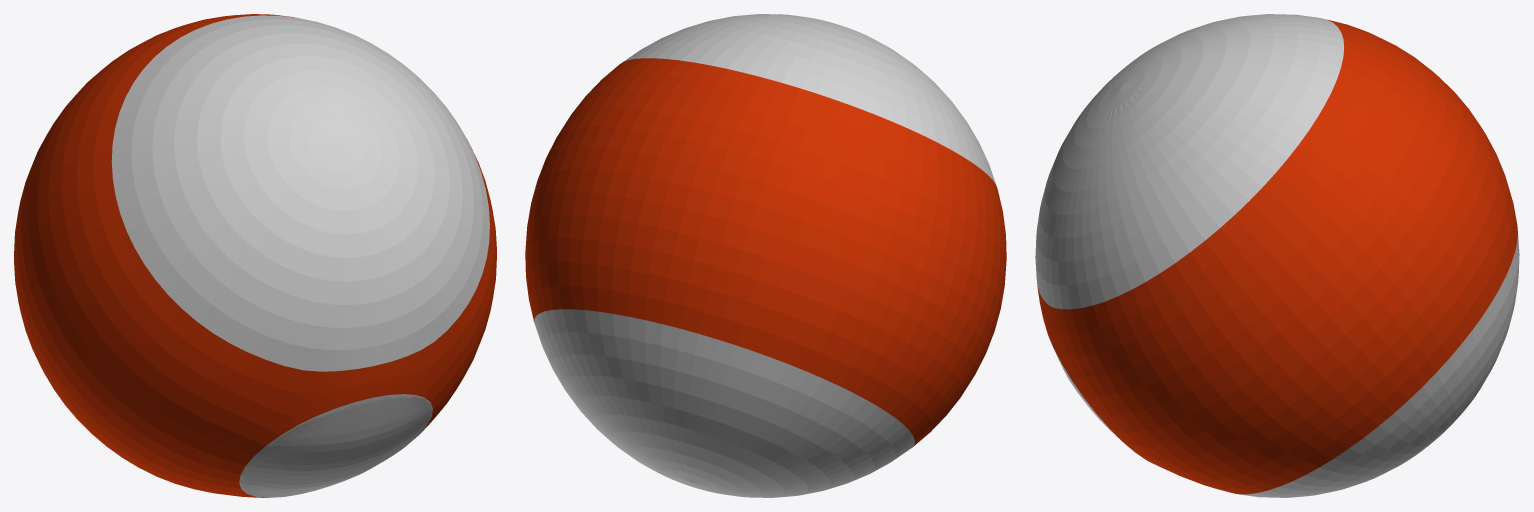
The model's file is 13_ball.obj.
The picture shows the model from 3 angles, left to right: view 1: azimuth 30°, elevation 25°; view 2: azimuth 150°, elevation 25°; view 3: azimuth 270°, elevation 25°; orthographic projection.
Parts seen in each view (by area): view 1: Stripe.003; view 2: Stripe.003; view 3: Stripe.003.
Part boxes in pixels (left/top/right/bottom): Stripe.003: left=14, top=14, right=496, bottom=497; Stripe.003: left=525, top=14, right=1006, bottom=497; Stripe.003: left=1035, top=14, right=1519, bottom=497.
Size of the model in its own units: 0.0786 by 0.0789 by 0.0788.
